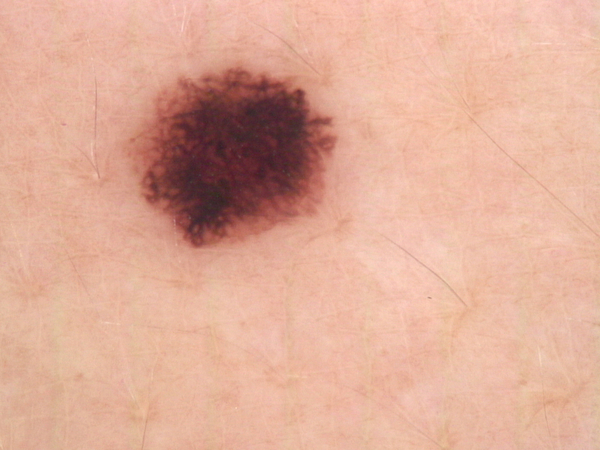Detected Lesion: (137, 71, 345, 249)
